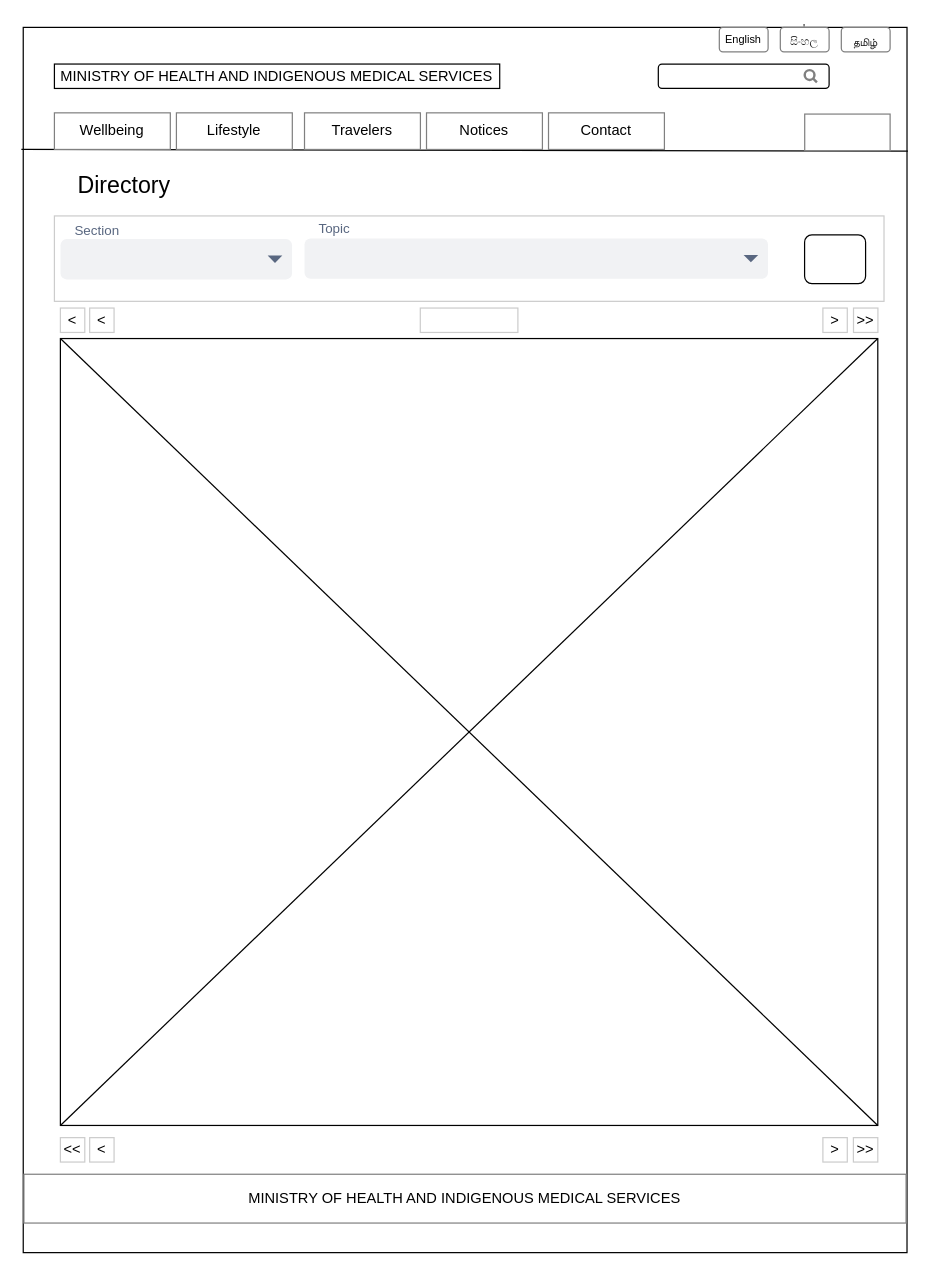
Image size: 931x1274. Some labels were removed from this diagram. Here are the shapes that lost their labels. From the top down, the centre of each, then its label:
(x=743, y=75): Search
(x=846, y=132): Login
(x=175, y=259): Select a section
(x=535, y=258): Select a topic
(x=834, y=259): Search Icon
(x=468, y=319): Result 1 of #
